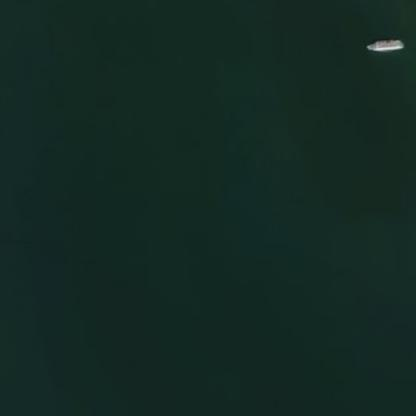ship: (357, 26, 408, 63)
